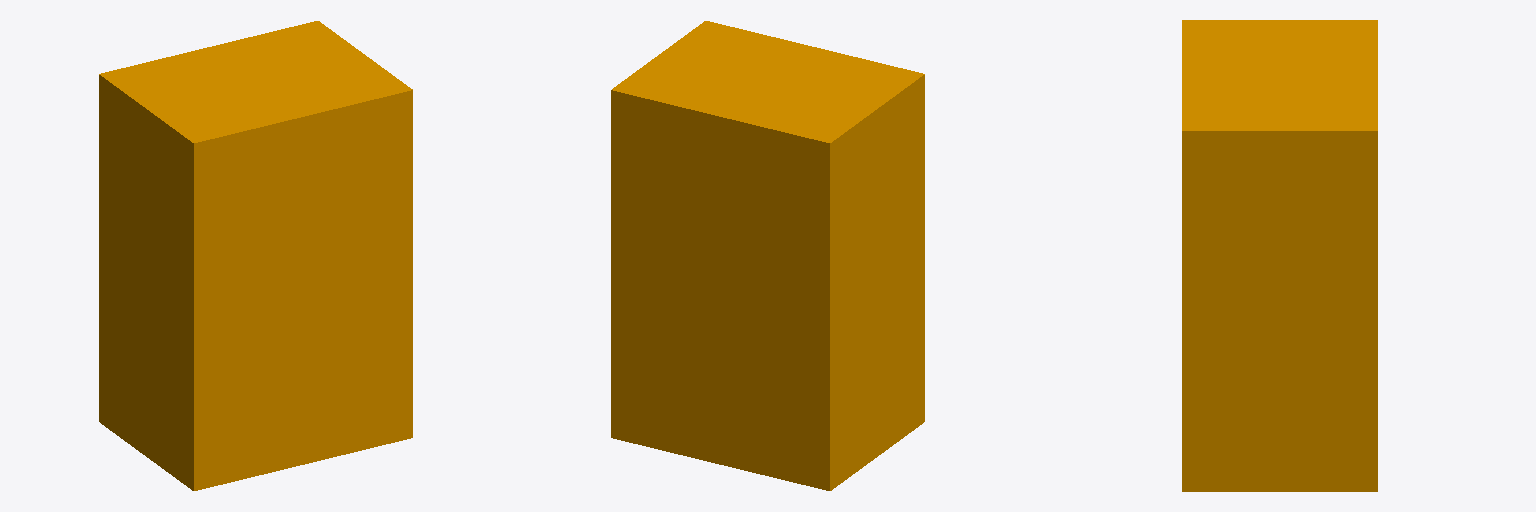
robot.urdf — industreal_round_peg_65mm:
<?xml version="1.0"?>
<robot name="industreal_round_peg_65mm">
    <link name="industreal_round_peg_65mm">
        <visual>
            <geometry>
                <mesh filename="../mesh/industreal_pegs/RectHard_4.obj"/>
            </geometry>
        </visual>
        <collision>
            <geometry>
                <mesh filename="../mesh/industreal_pegs/RectHard_4.obj"/>
            </geometry>
            <sdf resolution="256"/>
        </collision>
    </link>
</robot>

--- Facts derived from the render (not from the file) ---
Views: 3 orthographic renders of the robot side by side, from view 1: azimuth 30°, elevation 25°; view 2: azimuth 150°, elevation 25°; view 3: azimuth 270°, elevation 25°.
Robot: industreal_round_peg_65mm — 1 links, 0 joints (none); root link industreal_round_peg_65mm; default pose: every joint at zero.
Links seen in each view (by area): view 1: industreal_round_peg_65mm; view 2: industreal_round_peg_65mm; view 3: industreal_round_peg_65mm.
Link boxes in pixels (x1,y1,x2,y2): industreal_round_peg_65mm: [99, 21, 412, 490]; industreal_round_peg_65mm: [611, 21, 924, 490]; industreal_round_peg_65mm: [1182, 20, 1377, 491].
Size in the robot's own frame: 0.0503 by 0.0377 by 0.0762 metres.
Meshes: 1 distinct files referenced, 1 mesh visuals loaded (1 OBJ).